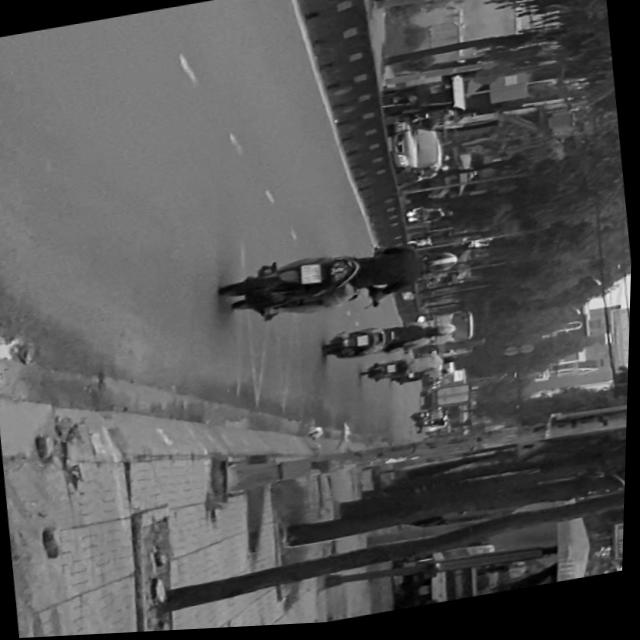helmet: (423, 252, 461, 279)
licenseplate: (220, 231, 465, 333)
nohelmet: (302, 266, 324, 287)
